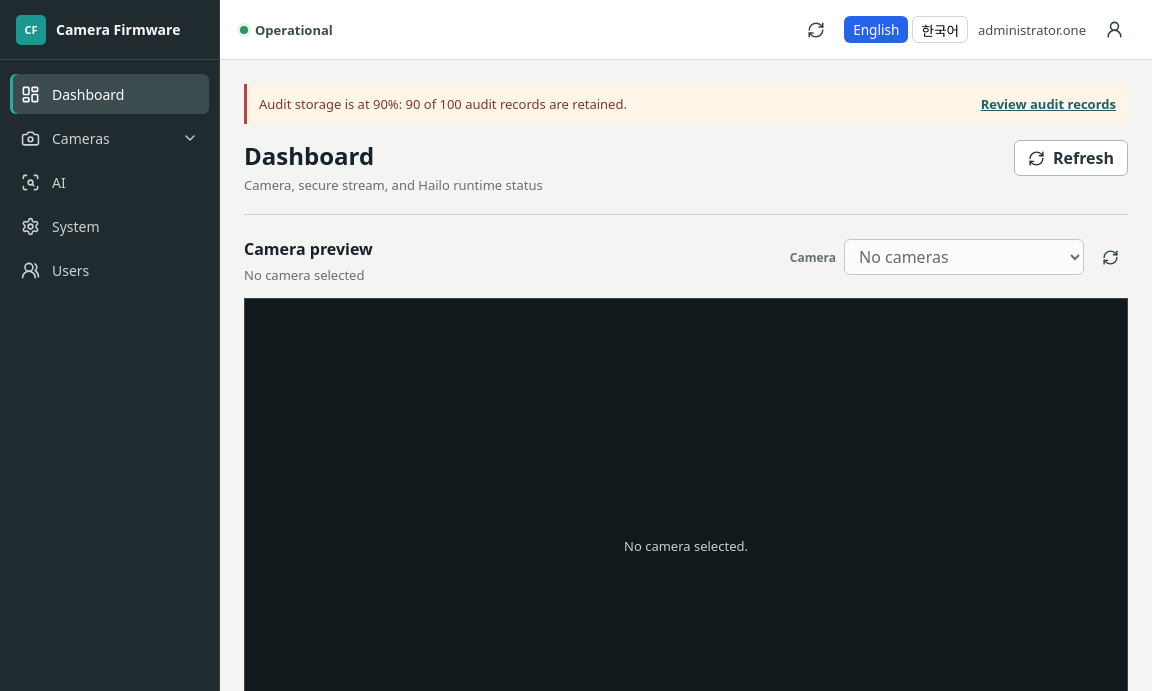
Scenario: App role-specific route trees › preserves an audit warning across administrator route transitions
Check: the text "Audit storage is at 90%" is shown, box [259,95,627,113]
Step 1. Click the button named "Refresh device state" → (816, 30), box [798,12,834,48]
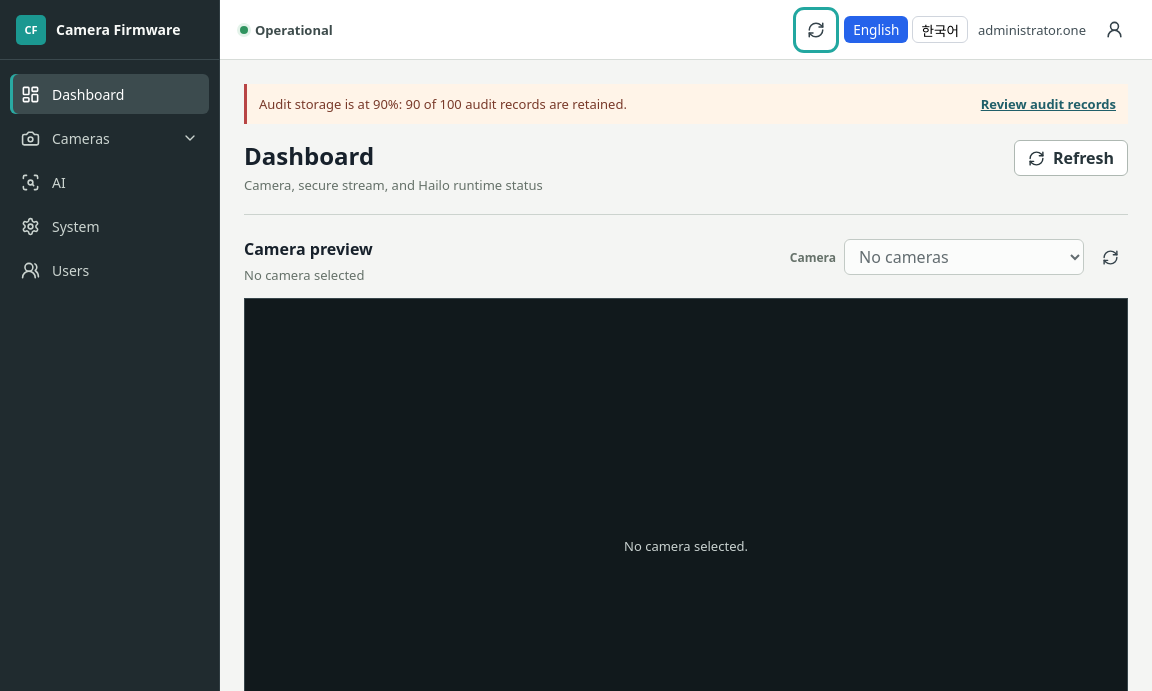
Step 2. Click the link "System" → (60, 226), box [21,216,100,236]
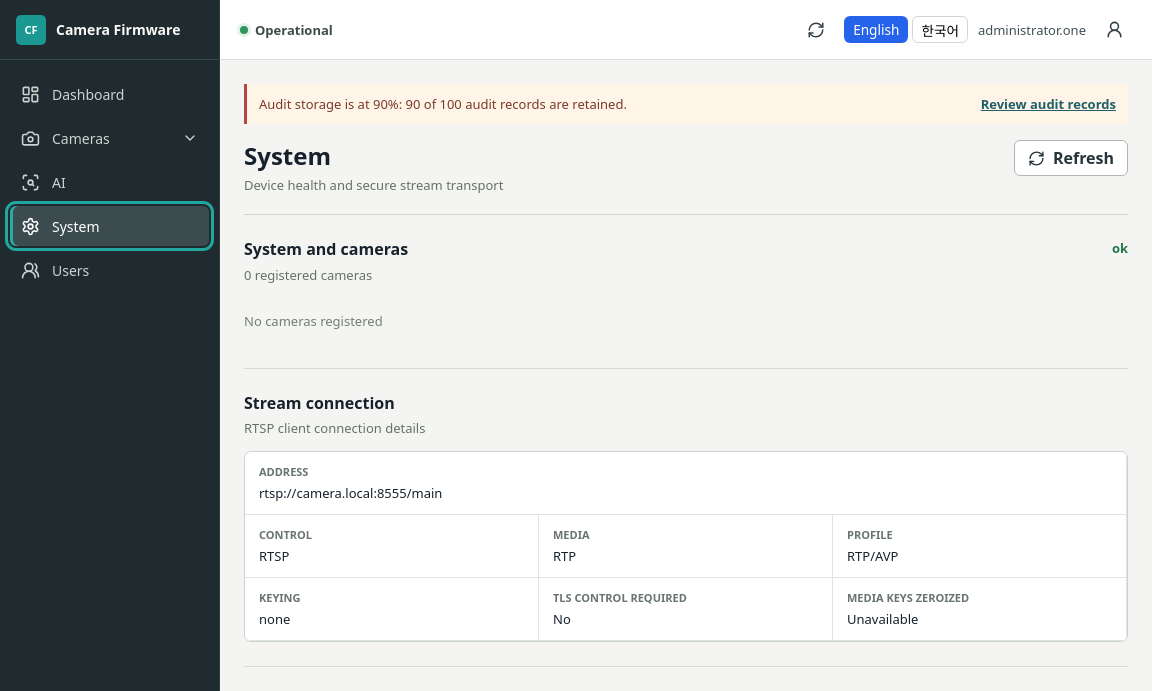
Check: the text "Audit storage is at 90%" is shown, box [259,95,627,113]
Step 3. Click the link "Users" → (55, 270), box [21,260,89,280]
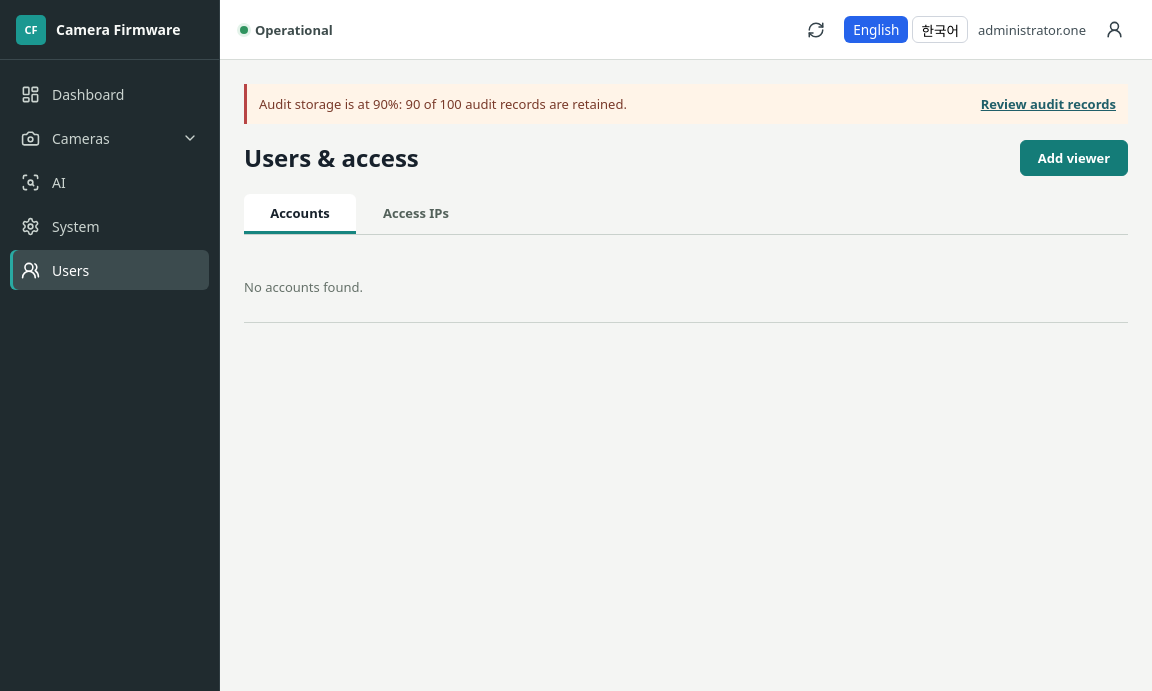
Check: the text "Audit storage is at 90%" is shown, box [259,95,627,113]
Check: the heading "Users & access" is shown, box [244,143,419,173]
Step 4. Click the link "Dashboard" → (73, 94), box [21,84,124,104]
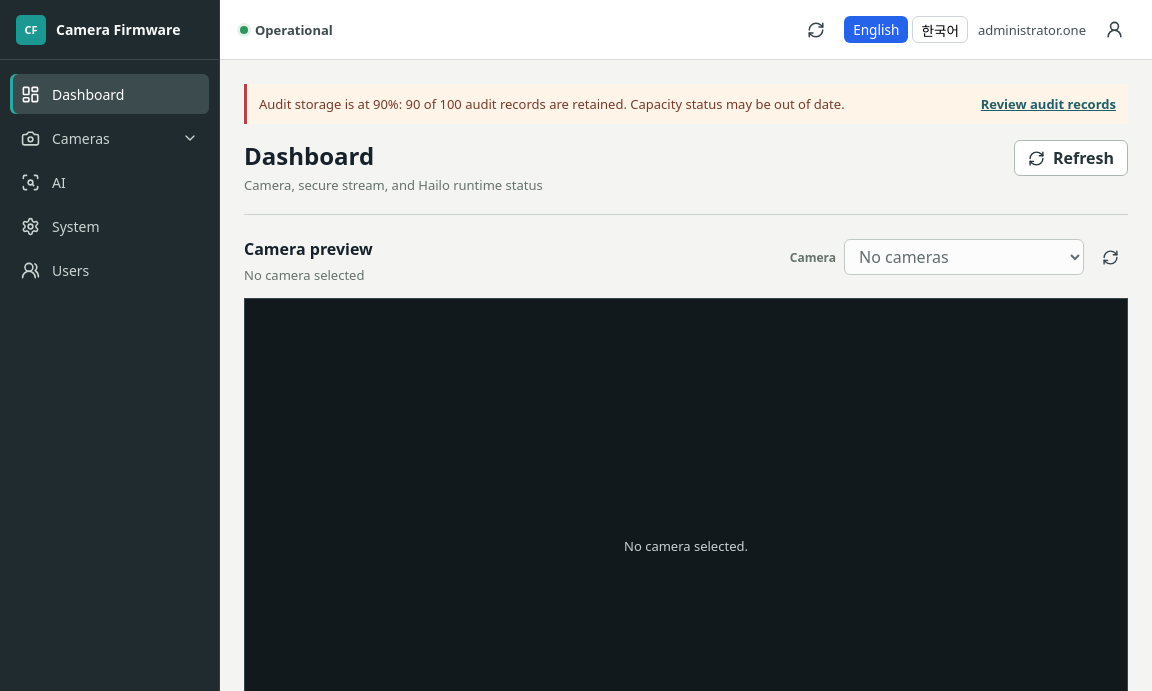
Check: the text "Audit storage is at 90%" is shown, box [259,95,627,113]
Check: the heading "Dashboard" is shown, box [244,139,374,172]
Check: the text "Capacity status may be out of date." is shown, box [627,95,845,113]
Step 5. Click the button named "Refresh device state" → (816, 30), box [798,12,834,48]
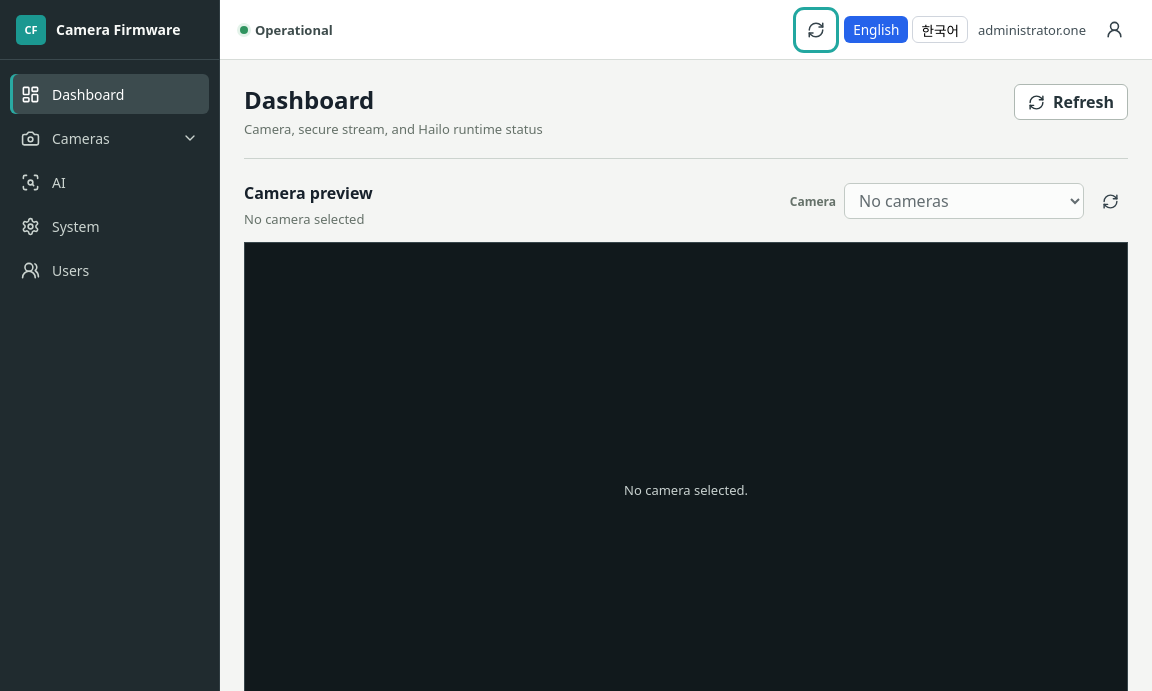
Check: the text "Audit storage is at 90%" is gone
